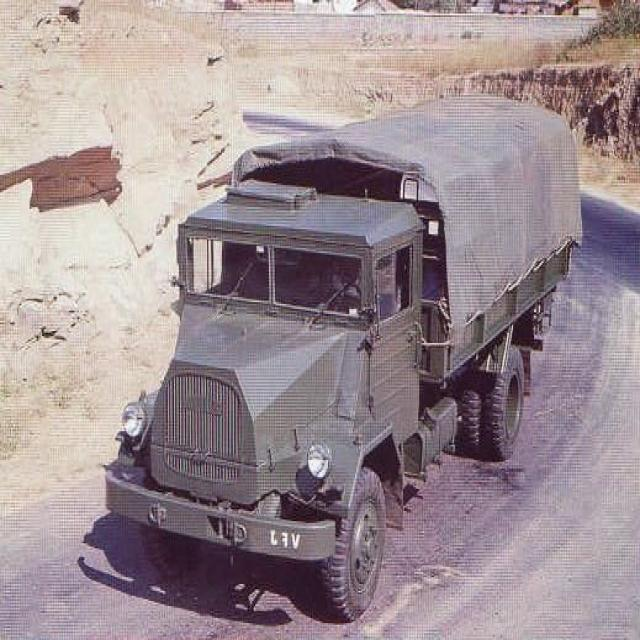truck: (106, 98, 581, 617)
